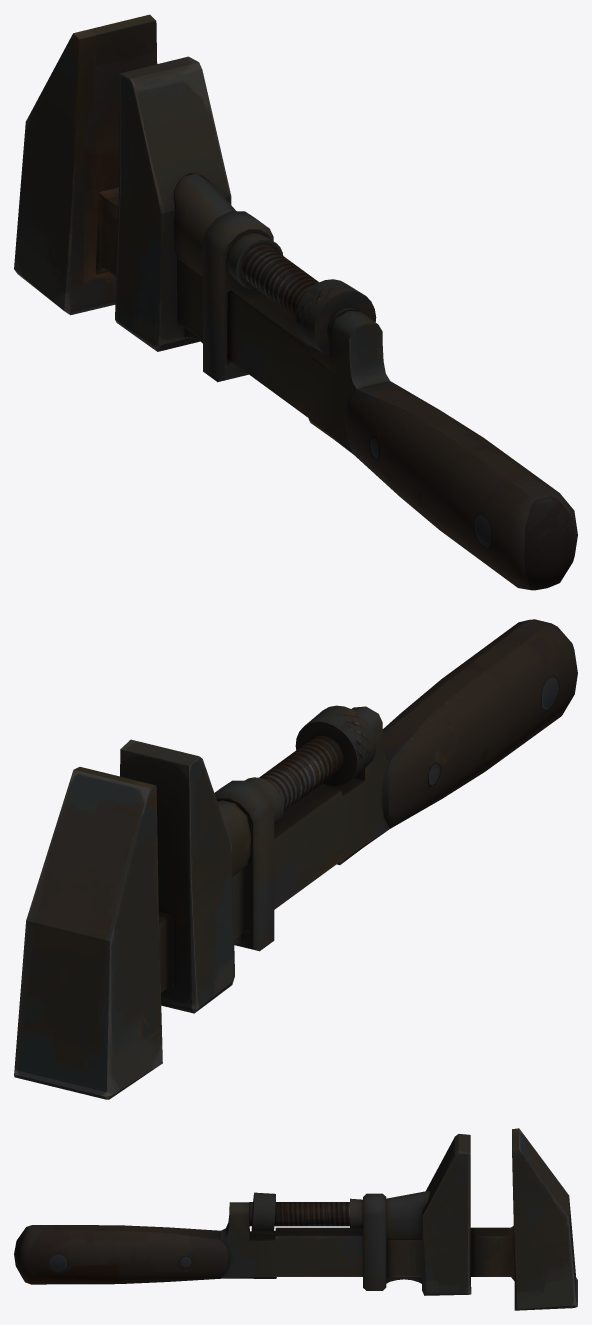
The model's file is tf-wrench-team-fortress-2.glb.
3 renders of one model, top to bottom at view 1: azimuth 30°, elevation 25°; view 2: azimuth 150°, elevation 25°; view 3: azimuth 270°, elevation 25°, orthographic. The views are drawn at different scales.
Size of the model in its own units: 3.32 by 8.81 by 28.43.
1 material, 1 textured.
